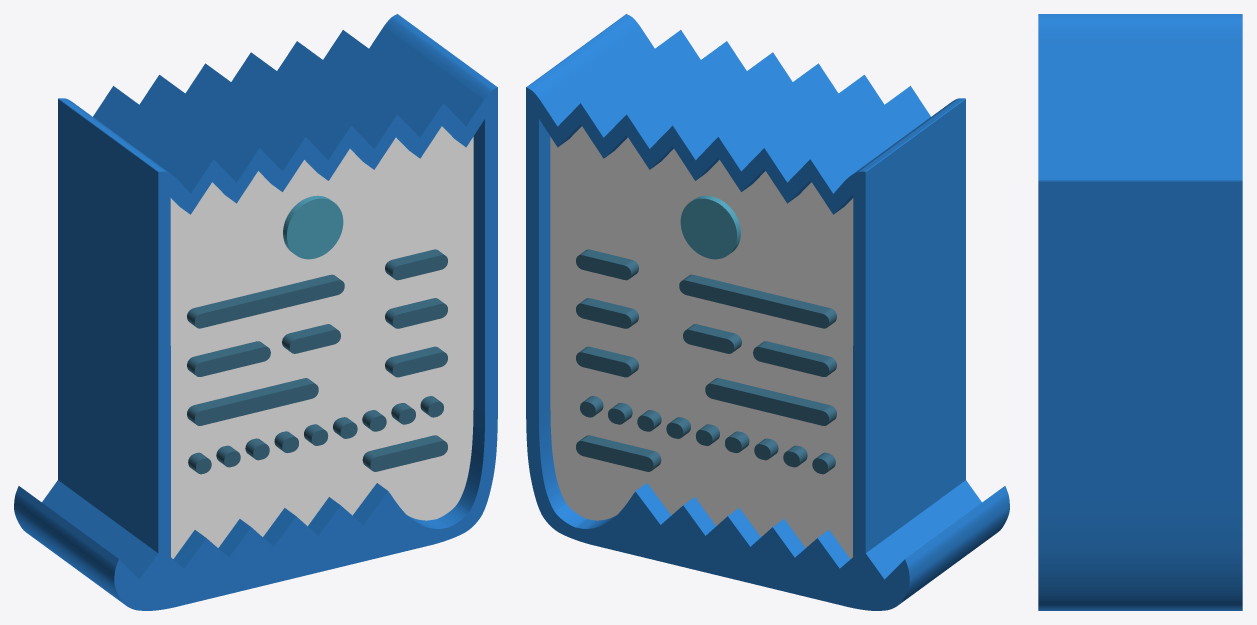
The picture shows the model from 3 angles, left to right: view 1: azimuth 30°, elevation 25°; view 2: azimuth 150°, elevation 25°; view 3: azimuth 270°, elevation 25°; orthographic projection.
Visible parts, largest first — view 1: U+1F9FE_layer03_obj00, U+1F9FE_layer00_obj00, U+1F9FE_layer02_obj02, U+1F9FE_layer01_obj00, U+1F9FE_layer02_obj08, U+1F9FE_layer02_obj09, U+1F9FE_layer02_obj06, U+1F9FE_layer02_obj00, U+1F9FE_layer02_obj07, U+1F9FE_layer02_obj04, U+1F9FE_layer02_obj05, U+1F9FE_layer02_obj03; view 2: U+1F9FE_layer03_obj00, U+1F9FE_layer00_obj00, U+1F9FE_layer02_obj02, U+1F9FE_layer01_obj00, U+1F9FE_layer02_obj08, U+1F9FE_layer02_obj09, U+1F9FE_layer02_obj06, U+1F9FE_layer02_obj00, U+1F9FE_layer02_obj07, U+1F9FE_layer02_obj04, U+1F9FE_layer02_obj05, U+1F9FE_layer02_obj03; view 3: U+1F9FE_layer03_obj00.
Part boxes in pixels (x1=…): U+1F9FE_layer03_obj00: x1=14, y1=14, x2=497, y2=610; U+1F9FE_layer00_obj00: x1=170, y1=126, x2=473, y2=558; U+1F9FE_layer02_obj02: x1=187, y1=274, x2=344, y2=328; U+1F9FE_layer01_obj00: x1=283, y1=195, x2=343, y2=259; U+1F9FE_layer02_obj08: x1=187, y1=378, x2=318, y2=425; U+1F9FE_layer02_obj09: x1=216, y1=403, x2=415, y2=467; U+1F9FE_layer02_obj06: x1=362, y1=435, x2=447, y2=471; U+1F9FE_layer02_obj00: x1=187, y1=341, x2=270, y2=376; U+1F9FE_layer02_obj07: x1=385, y1=346, x2=447, y2=377; U+1F9FE_layer02_obj04: x1=385, y1=249, x2=447, y2=280; U+1F9FE_layer02_obj05: x1=385, y1=298, x2=447, y2=328; U+1F9FE_layer02_obj03: x1=282, y1=324, x2=340, y2=353; U+1F9FE_layer03_obj00: x1=526, y1=14, x2=1009, y2=610; U+1F9FE_layer00_obj00: x1=550, y1=126, x2=853, y2=558; U+1F9FE_layer02_obj02: x1=679, y1=274, x2=836, y2=328; U+1F9FE_layer01_obj00: x1=680, y1=195, x2=740, y2=259; U+1F9FE_layer02_obj08: x1=705, y1=378, x2=836, y2=425; U+1F9FE_layer02_obj09: x1=608, y1=403, x2=807, y2=467; U+1F9FE_layer02_obj06: x1=576, y1=435, x2=661, y2=471; U+1F9FE_layer02_obj00: x1=753, y1=341, x2=836, y2=376; U+1F9FE_layer02_obj07: x1=576, y1=346, x2=638, y2=377; U+1F9FE_layer02_obj04: x1=576, y1=249, x2=638, y2=280; U+1F9FE_layer02_obj05: x1=576, y1=298, x2=638, y2=328; U+1F9FE_layer02_obj03: x1=683, y1=324, x2=741, y2=353; U+1F9FE_layer03_obj00: x1=1038, y1=14, x2=1242, y2=610.
Size of the model in its own units: 0.2872 by 0.3157 by 0.13.
